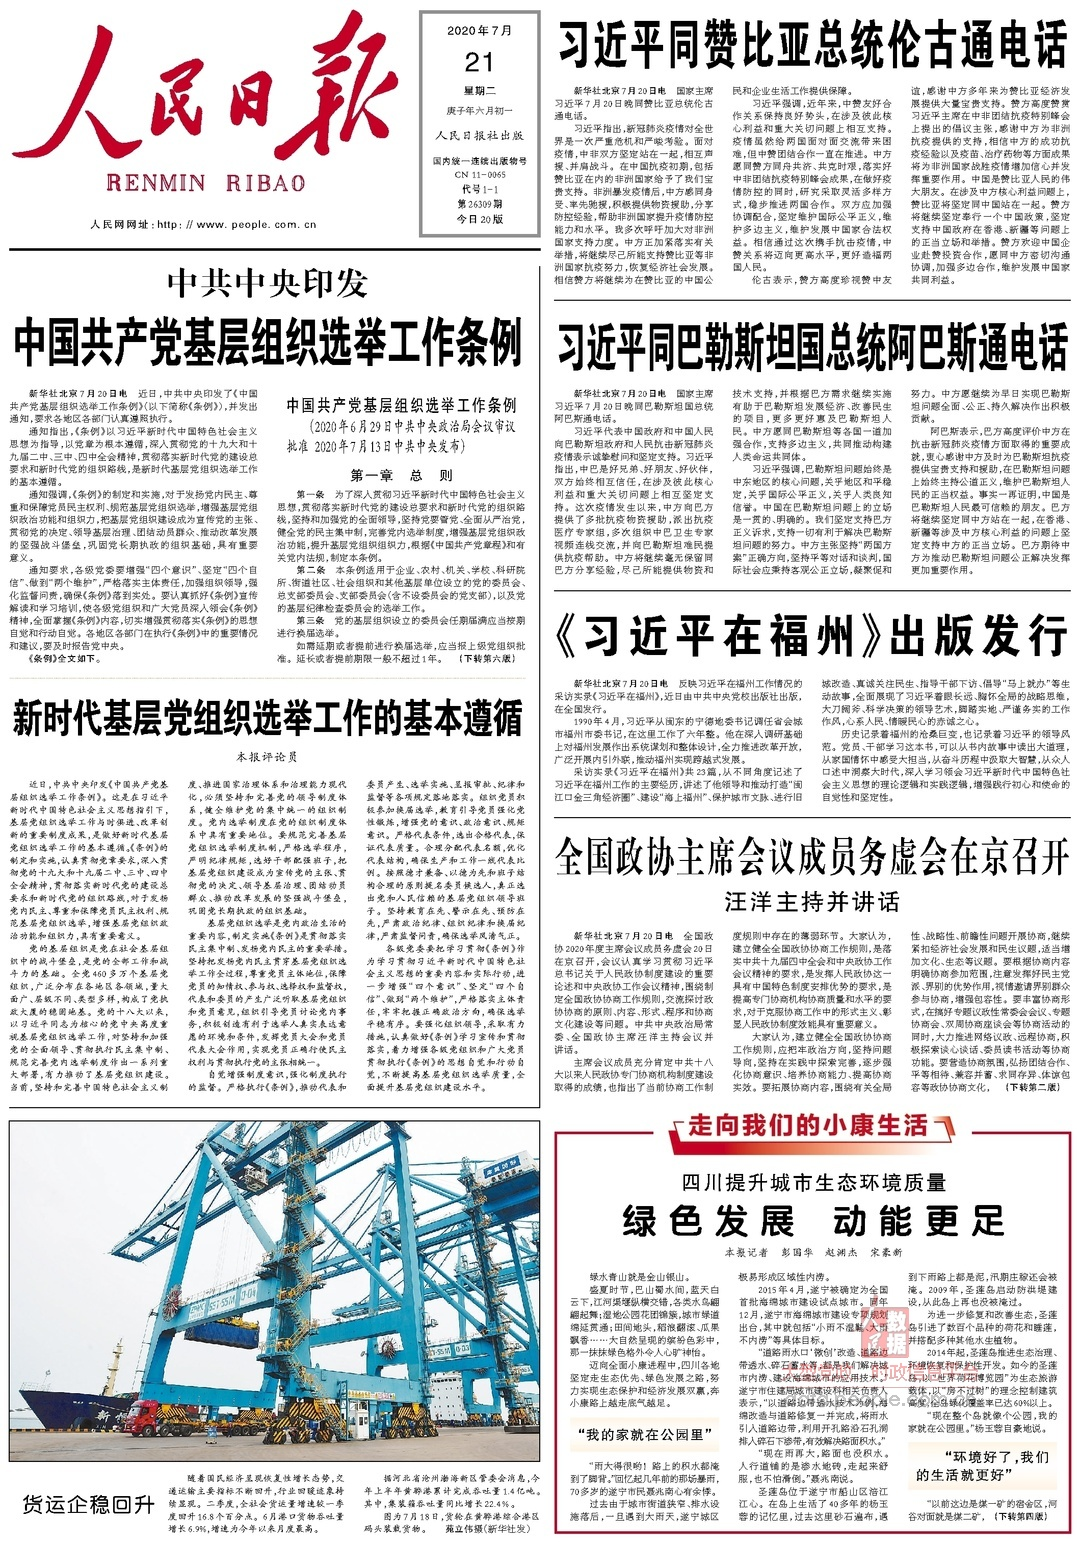pic: (6, 1115, 545, 1467)
